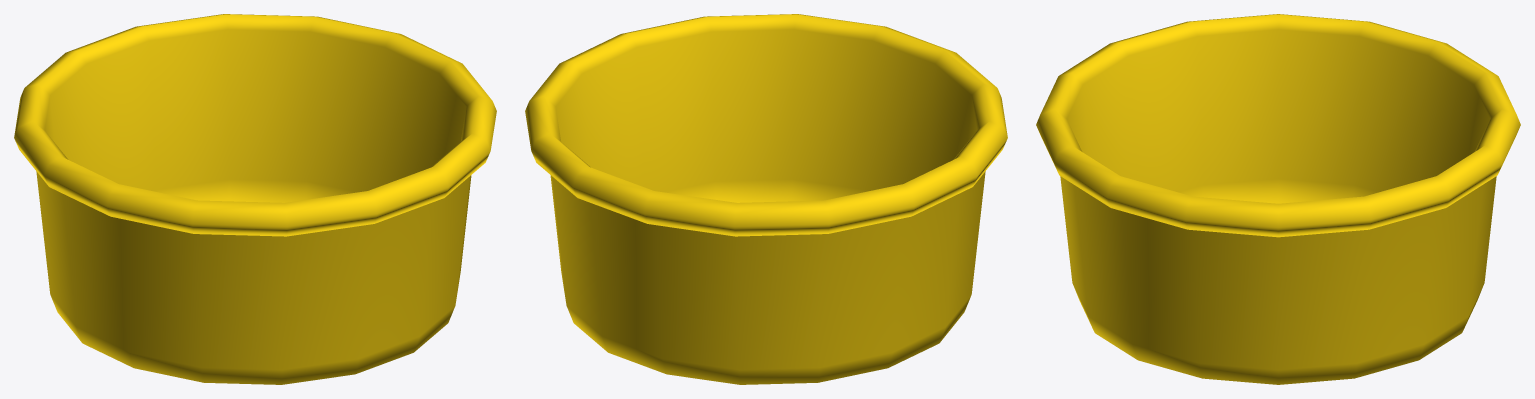
Rendered from wash_basin_lod_far.glb.
3 renders of one model, left to right at view 1: azimuth 30°, elevation 25°; view 2: azimuth 150°, elevation 25°; view 3: azimuth 270°, elevation 25°, orthographic.
Parts seen in each view (by area): view 1: wash_basin_lod_far; view 2: wash_basin_lod_far; view 3: wash_basin_lod_far.
Boxes of the visible parts, x1=… form: wash_basin_lod_far: x1=14, y1=14, x2=496, y2=384; wash_basin_lod_far: x1=525, y1=14, x2=1007, y2=384; wash_basin_lod_far: x1=1036, y1=14, x2=1520, y2=384.
Bounding box in the file's own units: 0.2 × 0.0905 × 0.2.
